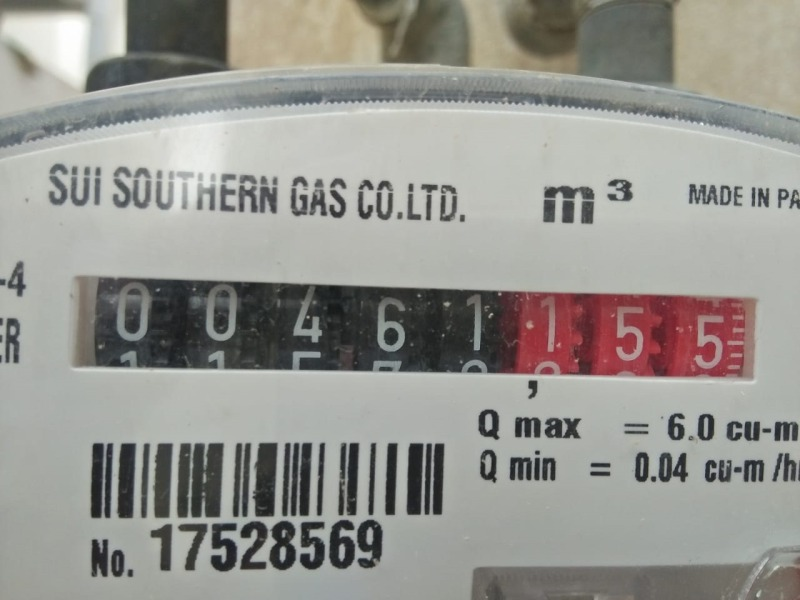ssgc: (66, 271, 760, 382)
